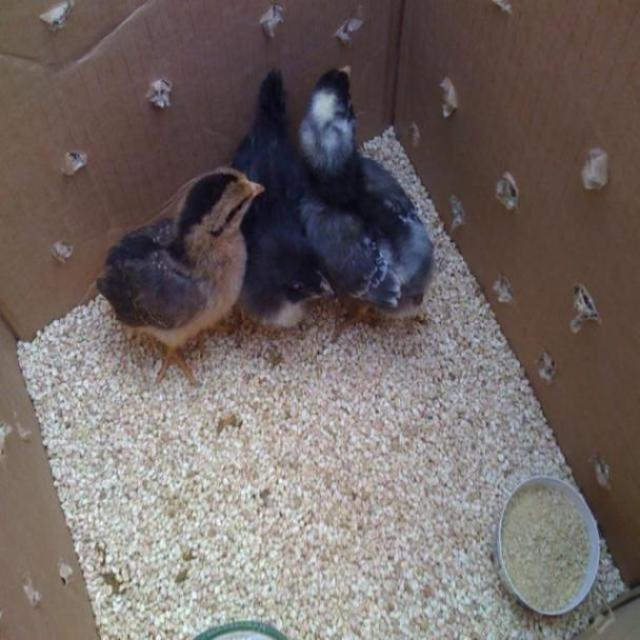Chicken: (104, 209, 245, 385)
